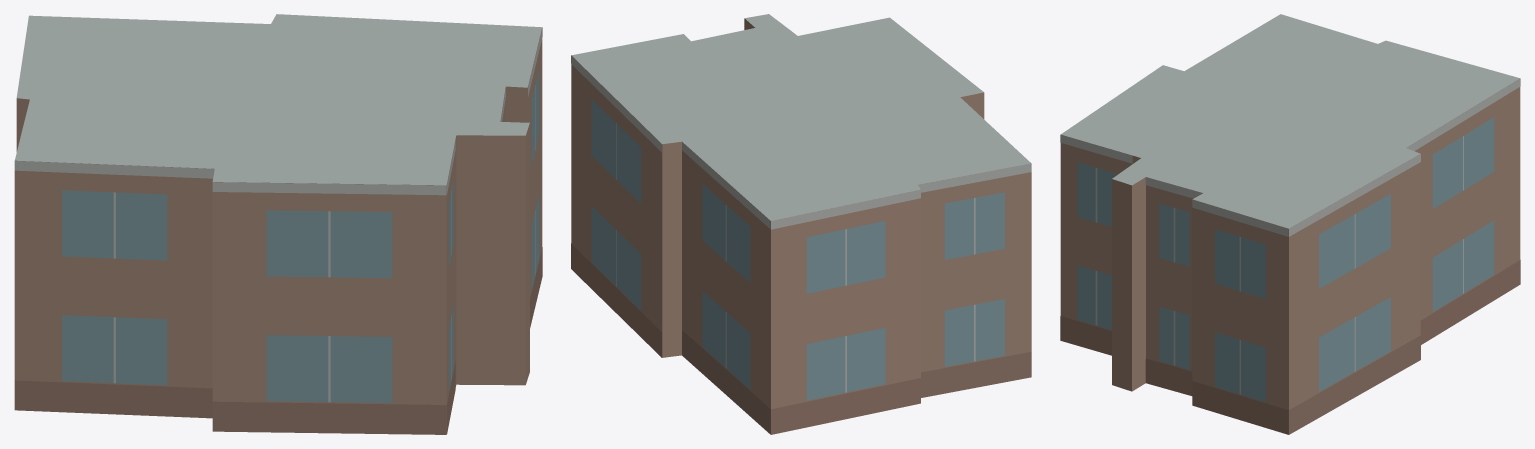
File: survey-upis-32994157.glb
The picture shows the model from 3 angles, left to right: view 1: azimuth 30°, elevation 25°; view 2: azimuth 150°, elevation 25°; view 3: azimuth 270°, elevation 25°; orthographic projection. The views are drawn at different scales.
Parts seen in each view (by area): view 1: survey-upis-32994157.tmp; view 2: survey-upis-32994157.tmp; view 3: survey-upis-32994157.tmp.
Part boxes in pixels (x1,y1,x2,y2): survey-upis-32994157.tmp: [14, 14, 542, 434]; survey-upis-32994157.tmp: [571, 14, 1031, 434]; survey-upis-32994157.tmp: [1060, 14, 1520, 434].
Size of the model in its own units: 13.63 by 6.1 by 12.34.
